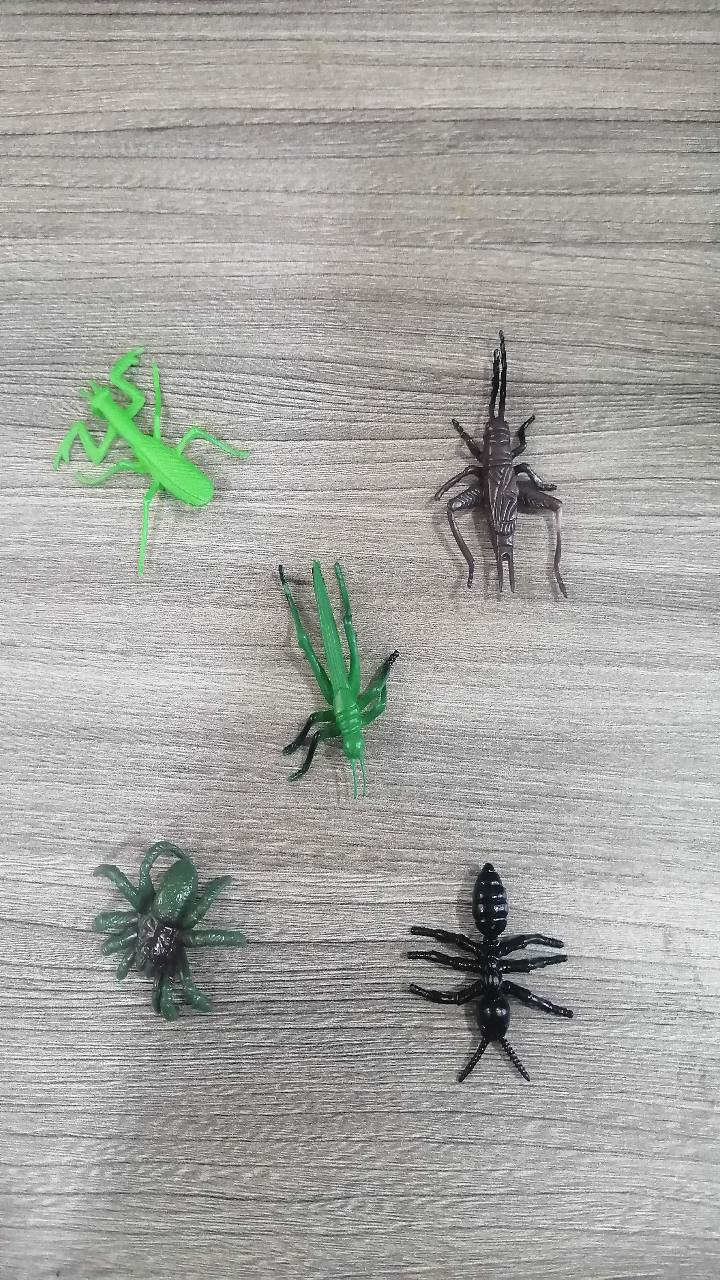intruso: (386, 306, 604, 642), (377, 840, 603, 1109), (46, 315, 252, 591), (51, 806, 255, 1042), (238, 543, 414, 802)
